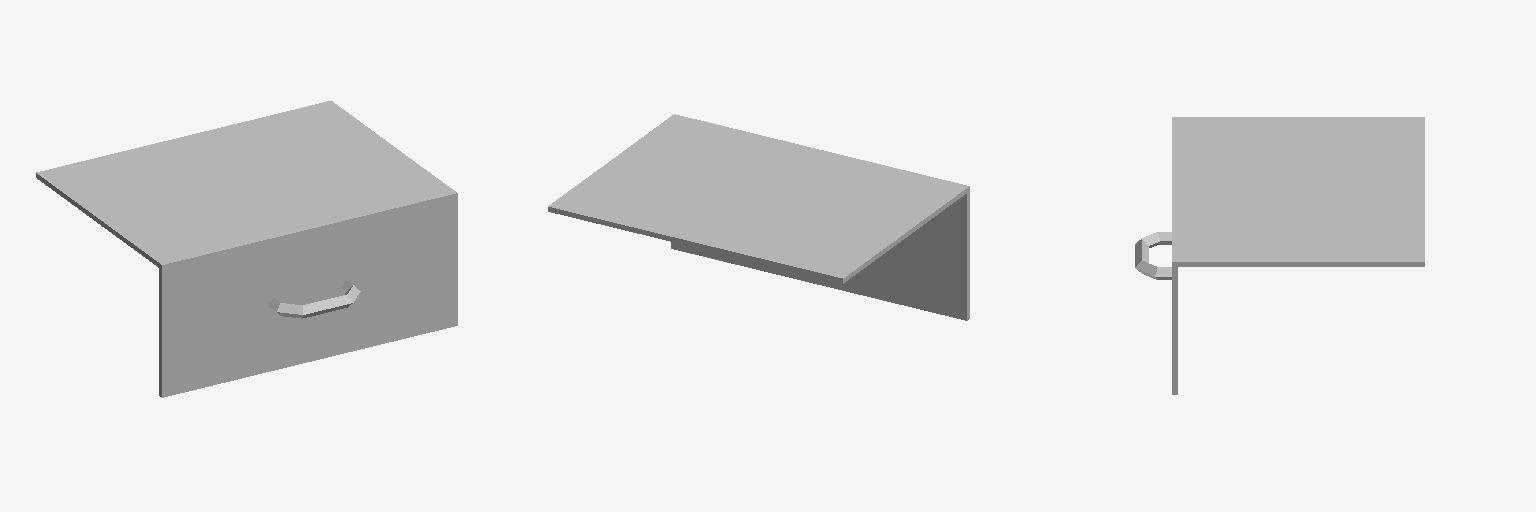
Rendered from cover.obj.
3 renders of one model, left to right at view 1: azimuth 30°, elevation 25°; view 2: azimuth 150°, elevation 25°; view 3: azimuth 270°, elevation 25°, orthographic.
Parts seen in each view (by area): view 1: Cube_Cube.001; view 2: Cube_Cube.001; view 3: Cube_Cube.001.
Part boxes in pixels (x1,y1,x2,y2): Cube_Cube.001: (36,101,457,397); Cube_Cube.001: (548,114,969,320); Cube_Cube.001: (1135,117,1424,394).
Bounding box in the file's own units: 0.9308 × 0.3996 × 0.7902.